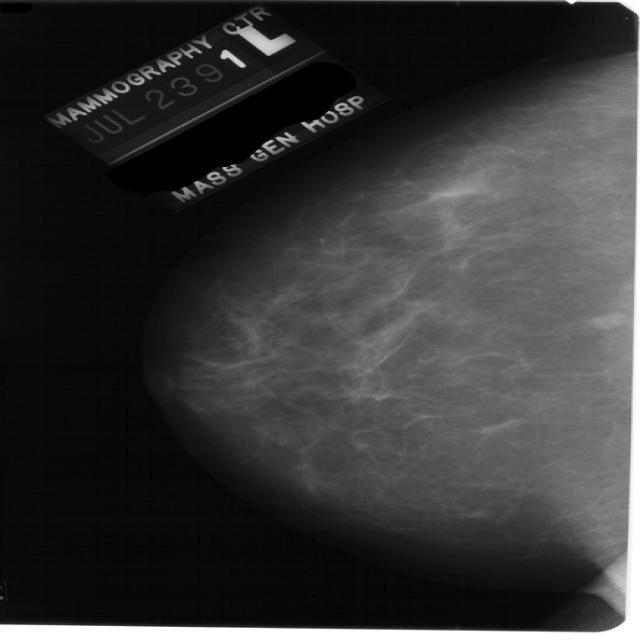tumour: (587, 310, 624, 330)
